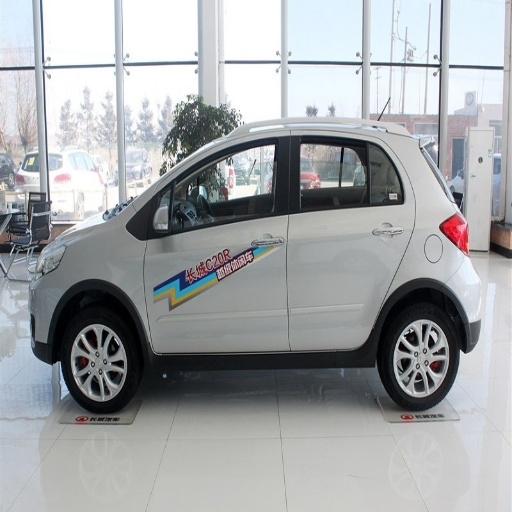back_left_door: (289, 132, 413, 345)
front_left_door: (144, 133, 290, 349)
